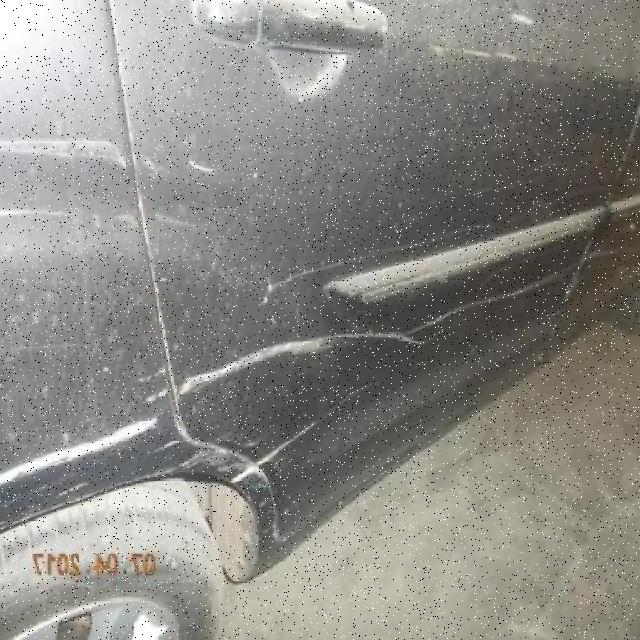damage: (319, 248, 623, 349), (175, 330, 327, 404), (0, 418, 166, 484), (0, 126, 137, 174)
